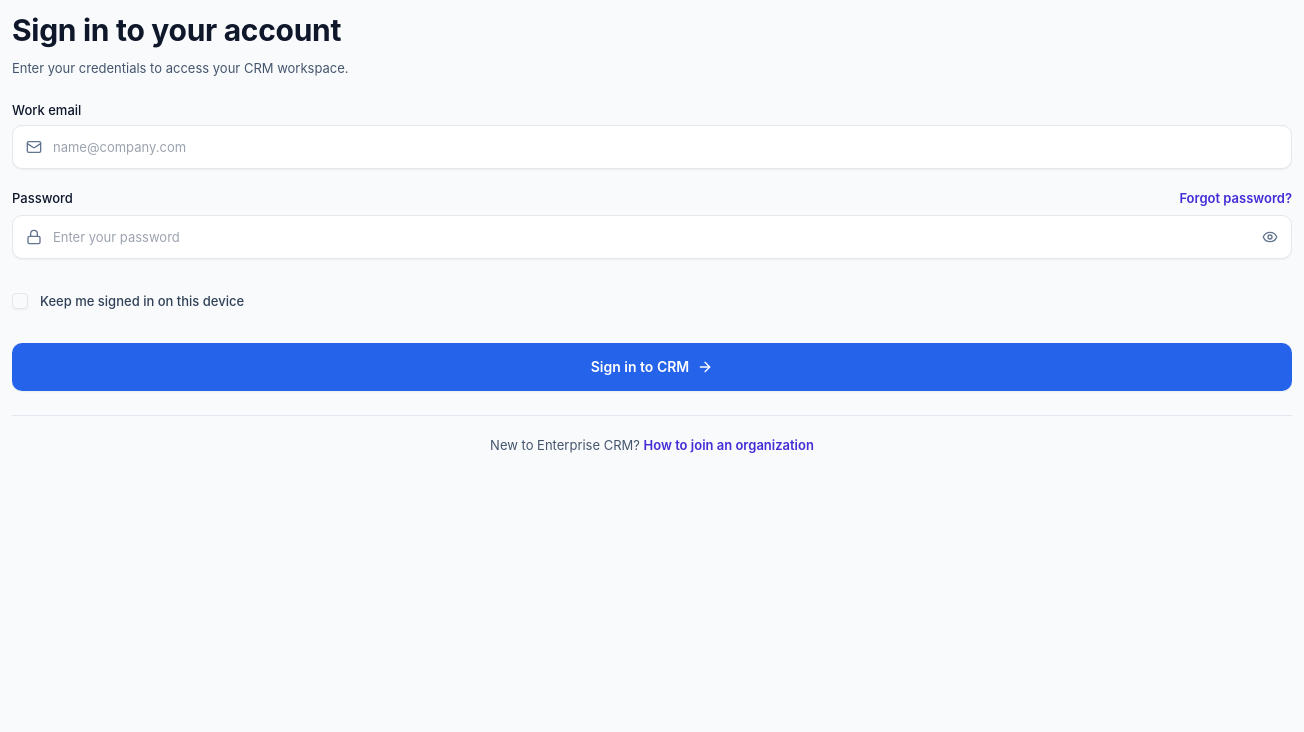
Test: LoginForm › fails safely when the backend omits the access token
The width and height of the screenshot is (1304, 732).
Type "alex@crm.com" into the field labelled "Work email".
click(652, 147); type("alex@crm.com")  # box [12,125,1292,169]
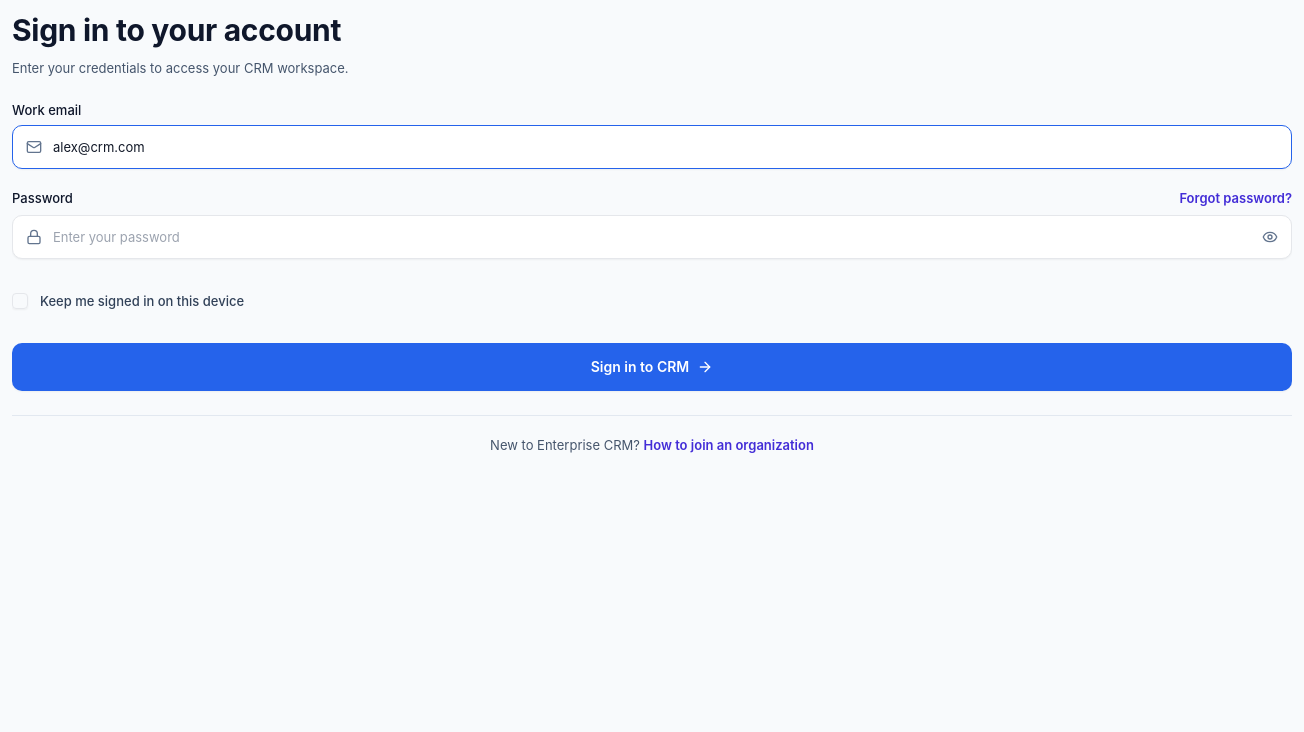
Type "secret" into the password field labelled "Password".
click(652, 237); type("secret")  # box [12,215,1292,259]
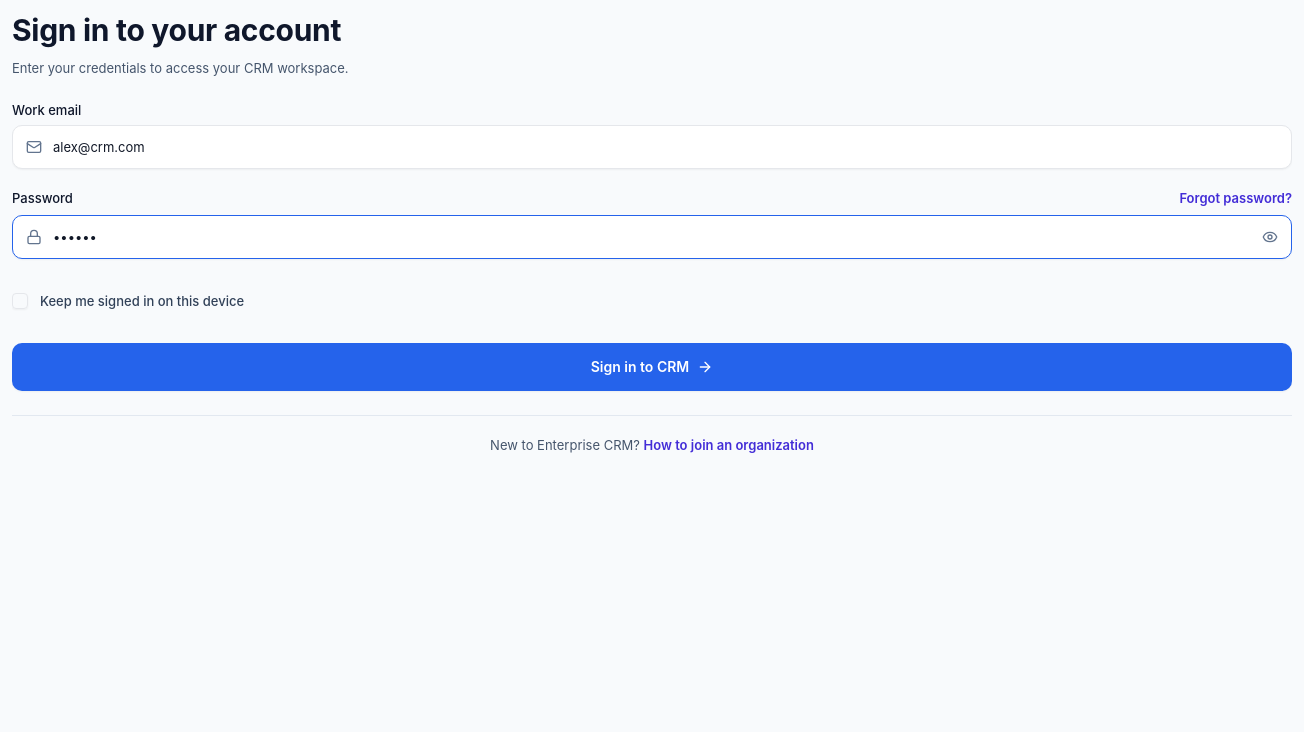
Click the button "Sign in to CRM".
click(652, 367)  # box [12,343,1292,391]
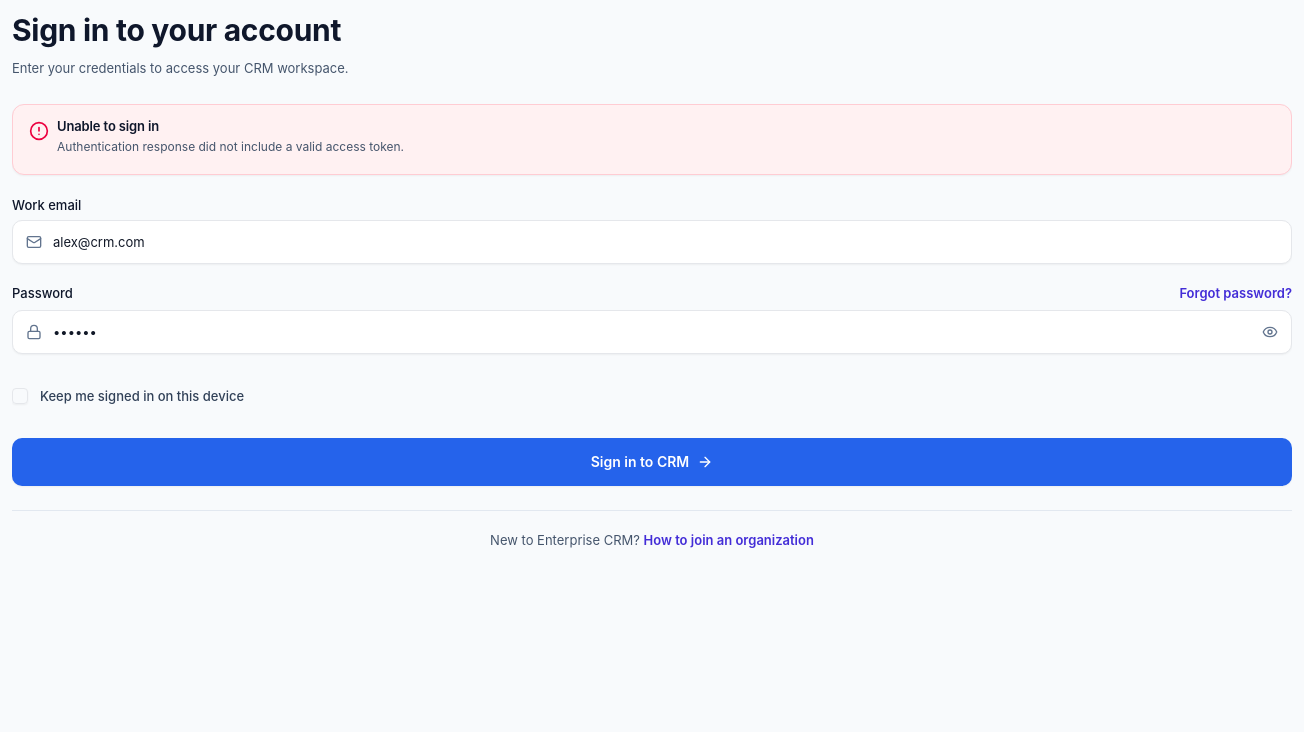
Expected: the text "Authentication response did not include a valid access token." is shown, [57,139,404,154]
